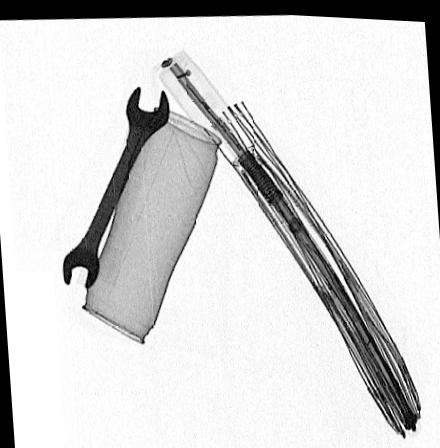Wrench: (62, 81, 170, 286)
